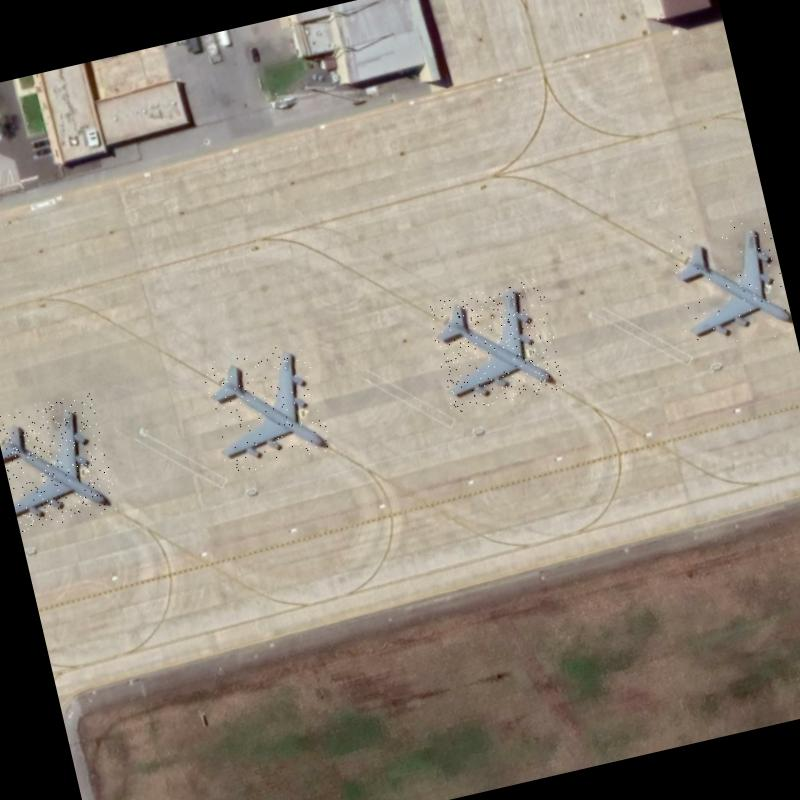A14: (426, 276, 566, 414), (663, 212, 795, 358), (201, 339, 335, 476), (0, 391, 119, 532)
